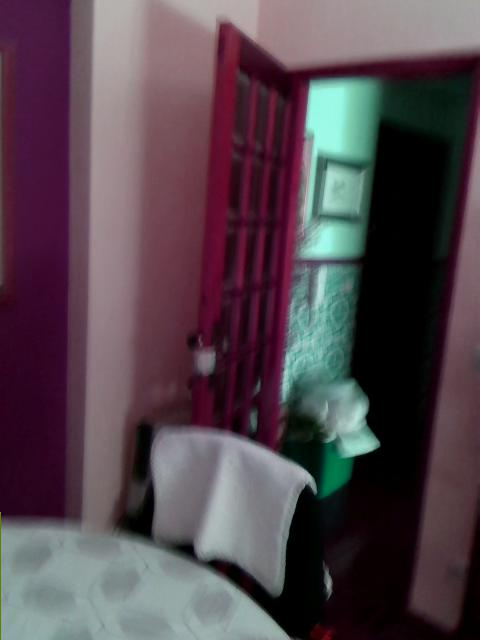open_door: (225, 47, 479, 618)
